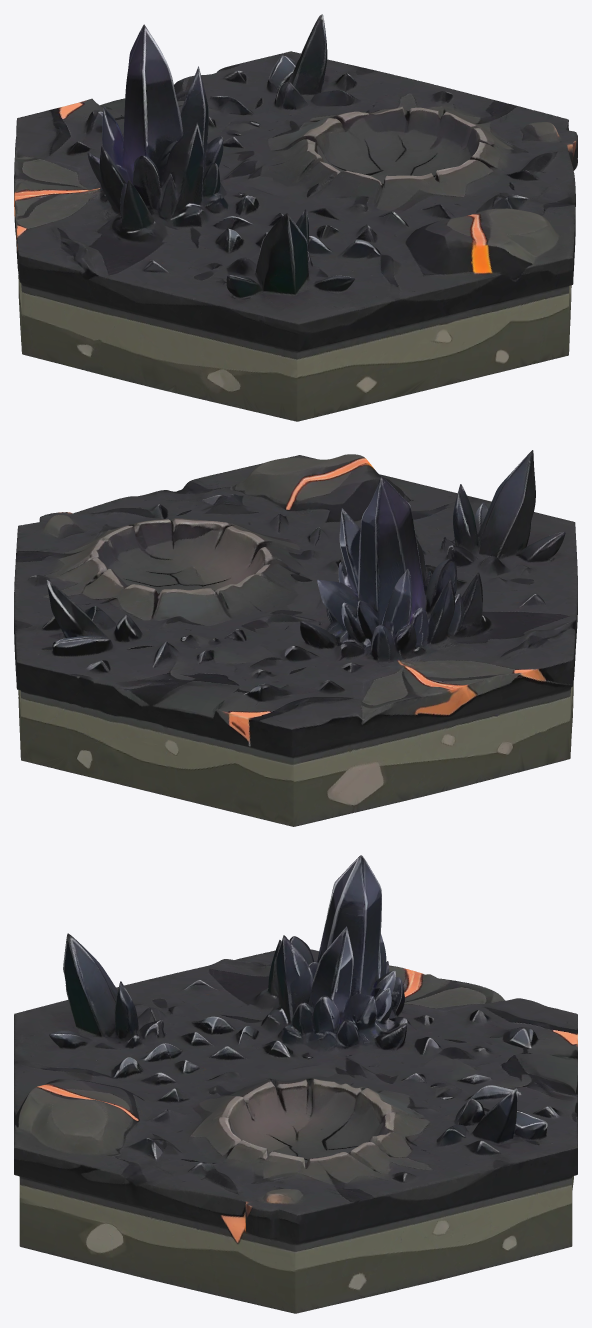
Rendered from obsidiantile_b.glb.
The picture shows the model from 3 angles, top to bottom: view 1: azimuth 30°, elevation 25°; view 2: azimuth 150°, elevation 25°; view 3: azimuth 270°, elevation 25°; orthographic projection.
Size of the model in its own units: 1.9 by 0.8834 by 1.68.
1 material, 1 textured.
